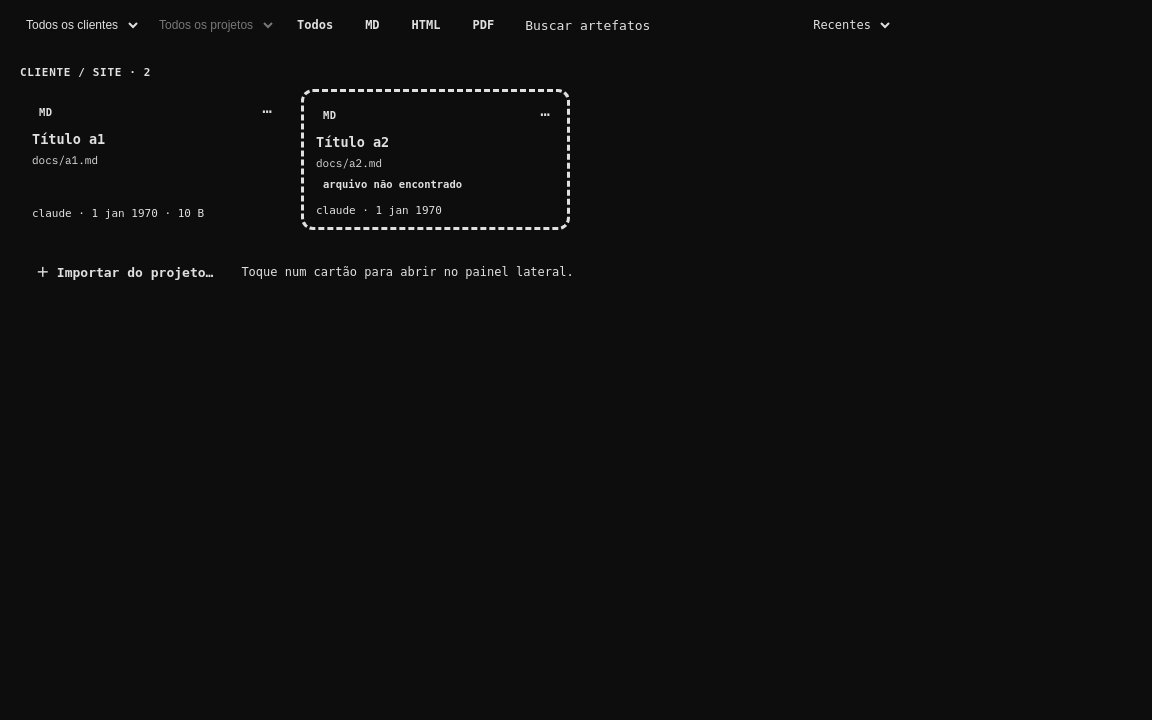
Test: menu do cartão › Renomear manda PATCH com o título e o cartão muda
This screenshot has width=1152, height=720.
Click the button named "Ações de Título a1" at x=267, y=111, box [249, 93, 285, 129]
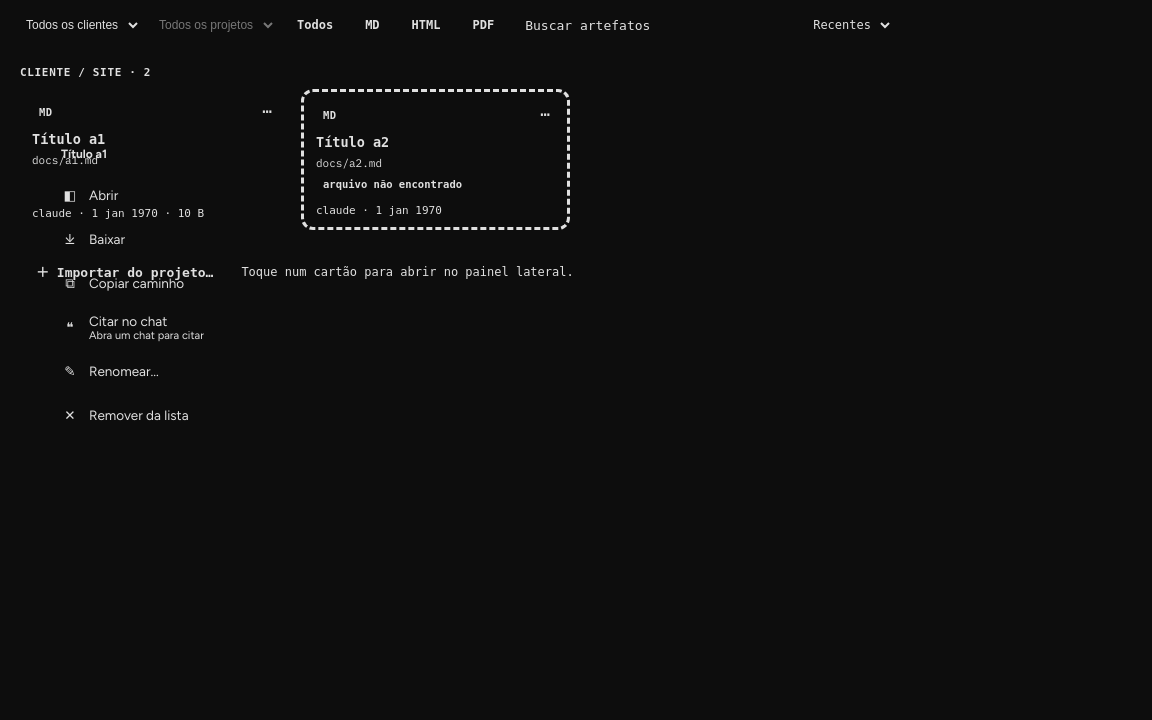
Click the menu item "✎ Renomear…" at x=165, y=371, box [51, 349, 279, 393]
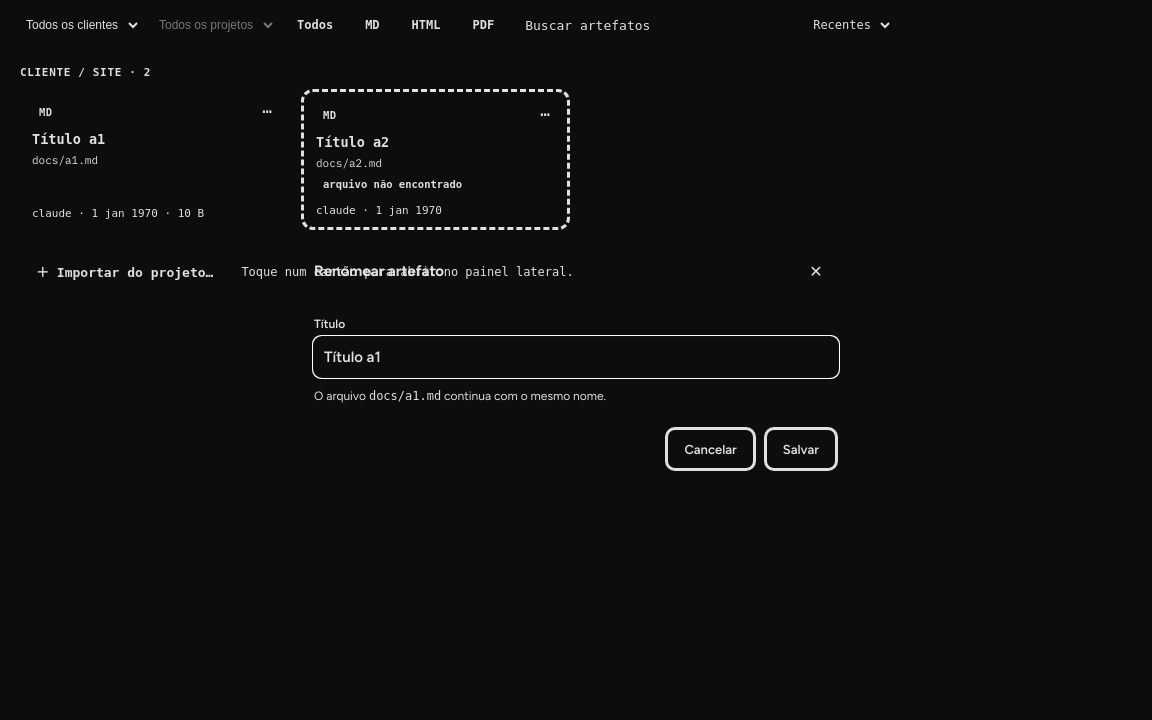
Replace the text in the field labelled "Título" with "  Plano final " at x=576, y=357, box [314, 337, 838, 377]
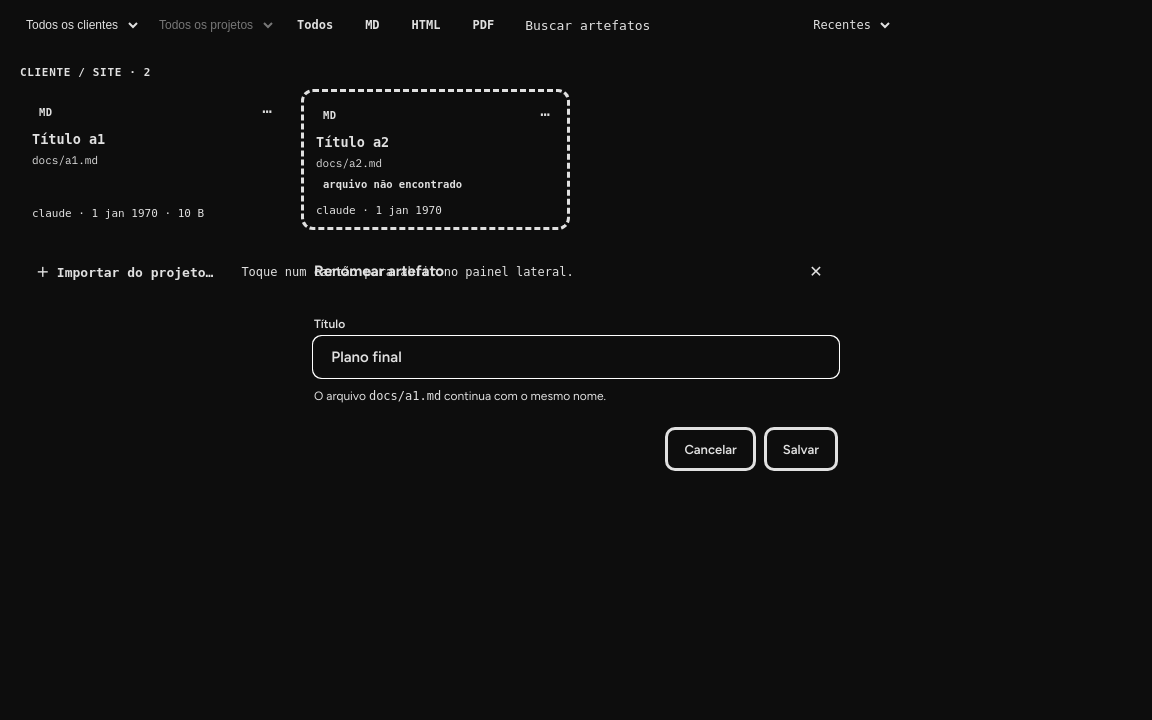
Click the button "Salvar" at x=801, y=449, box [764, 427, 838, 471]
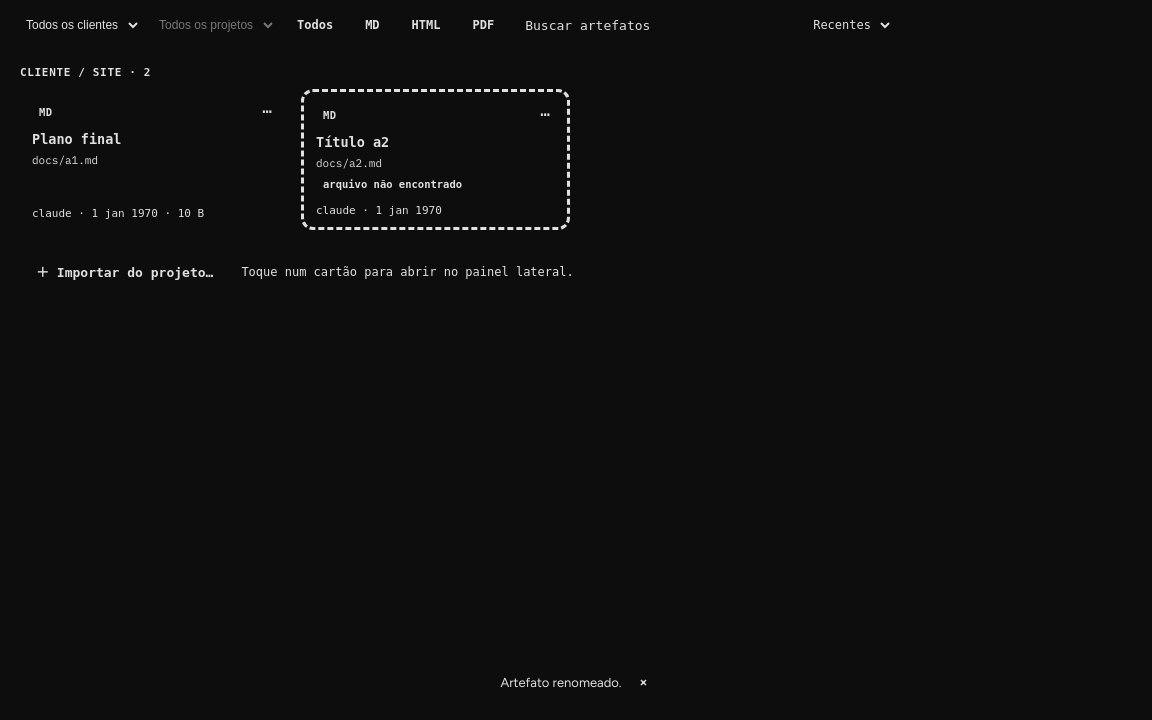
Check: the button with test id "artifact-card-a1" shows "Plano final", box [20, 89, 289, 230]
